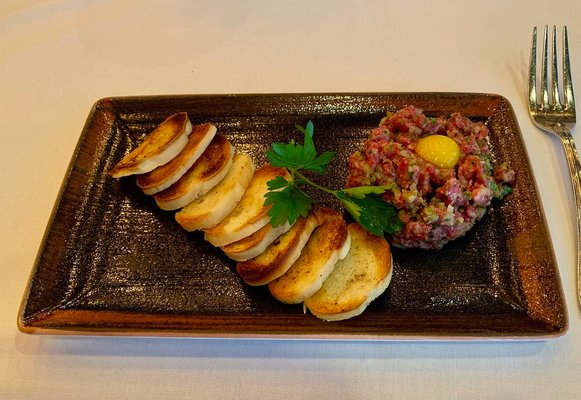burger: (527, 24, 581, 307)
pasta: (175, 148, 256, 231)
